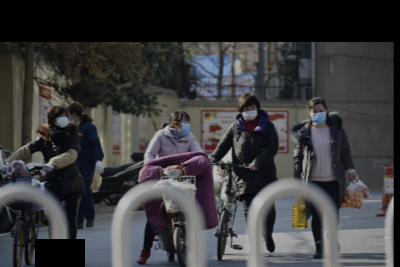with_mask: (241, 103, 258, 121), (310, 107, 327, 123), (177, 118, 191, 134), (55, 113, 69, 127)
